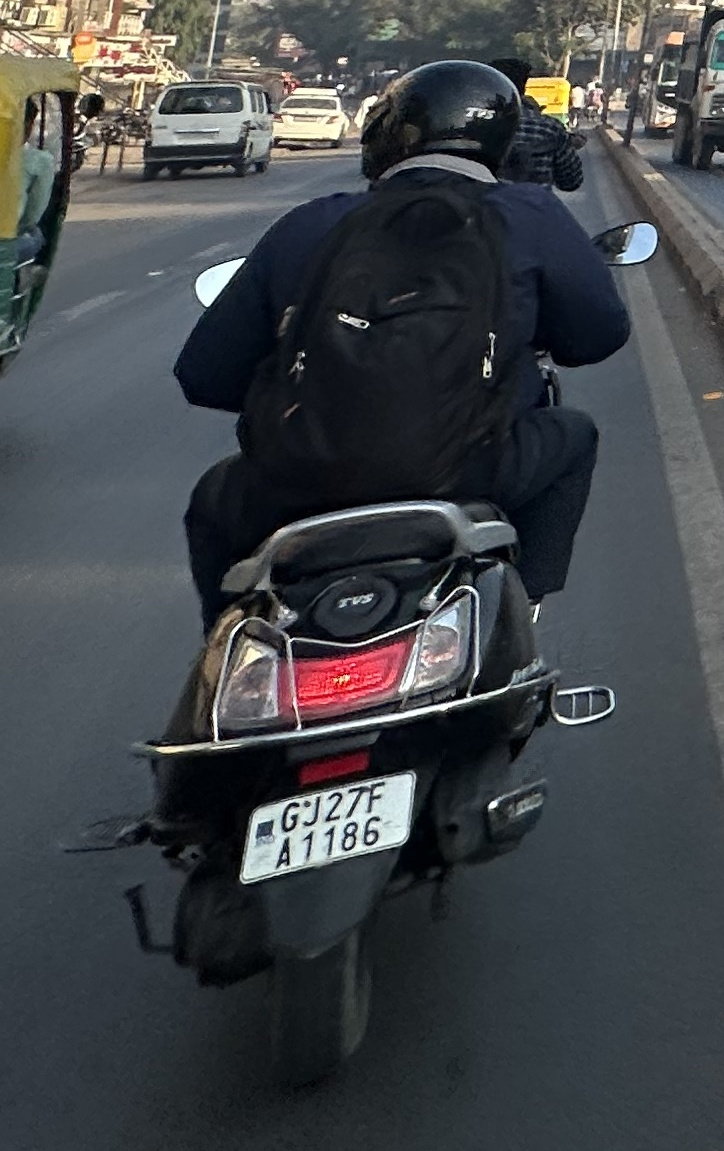BikeWithRider: (50, 46, 669, 1102)
Helmet: (345, 49, 536, 198)
